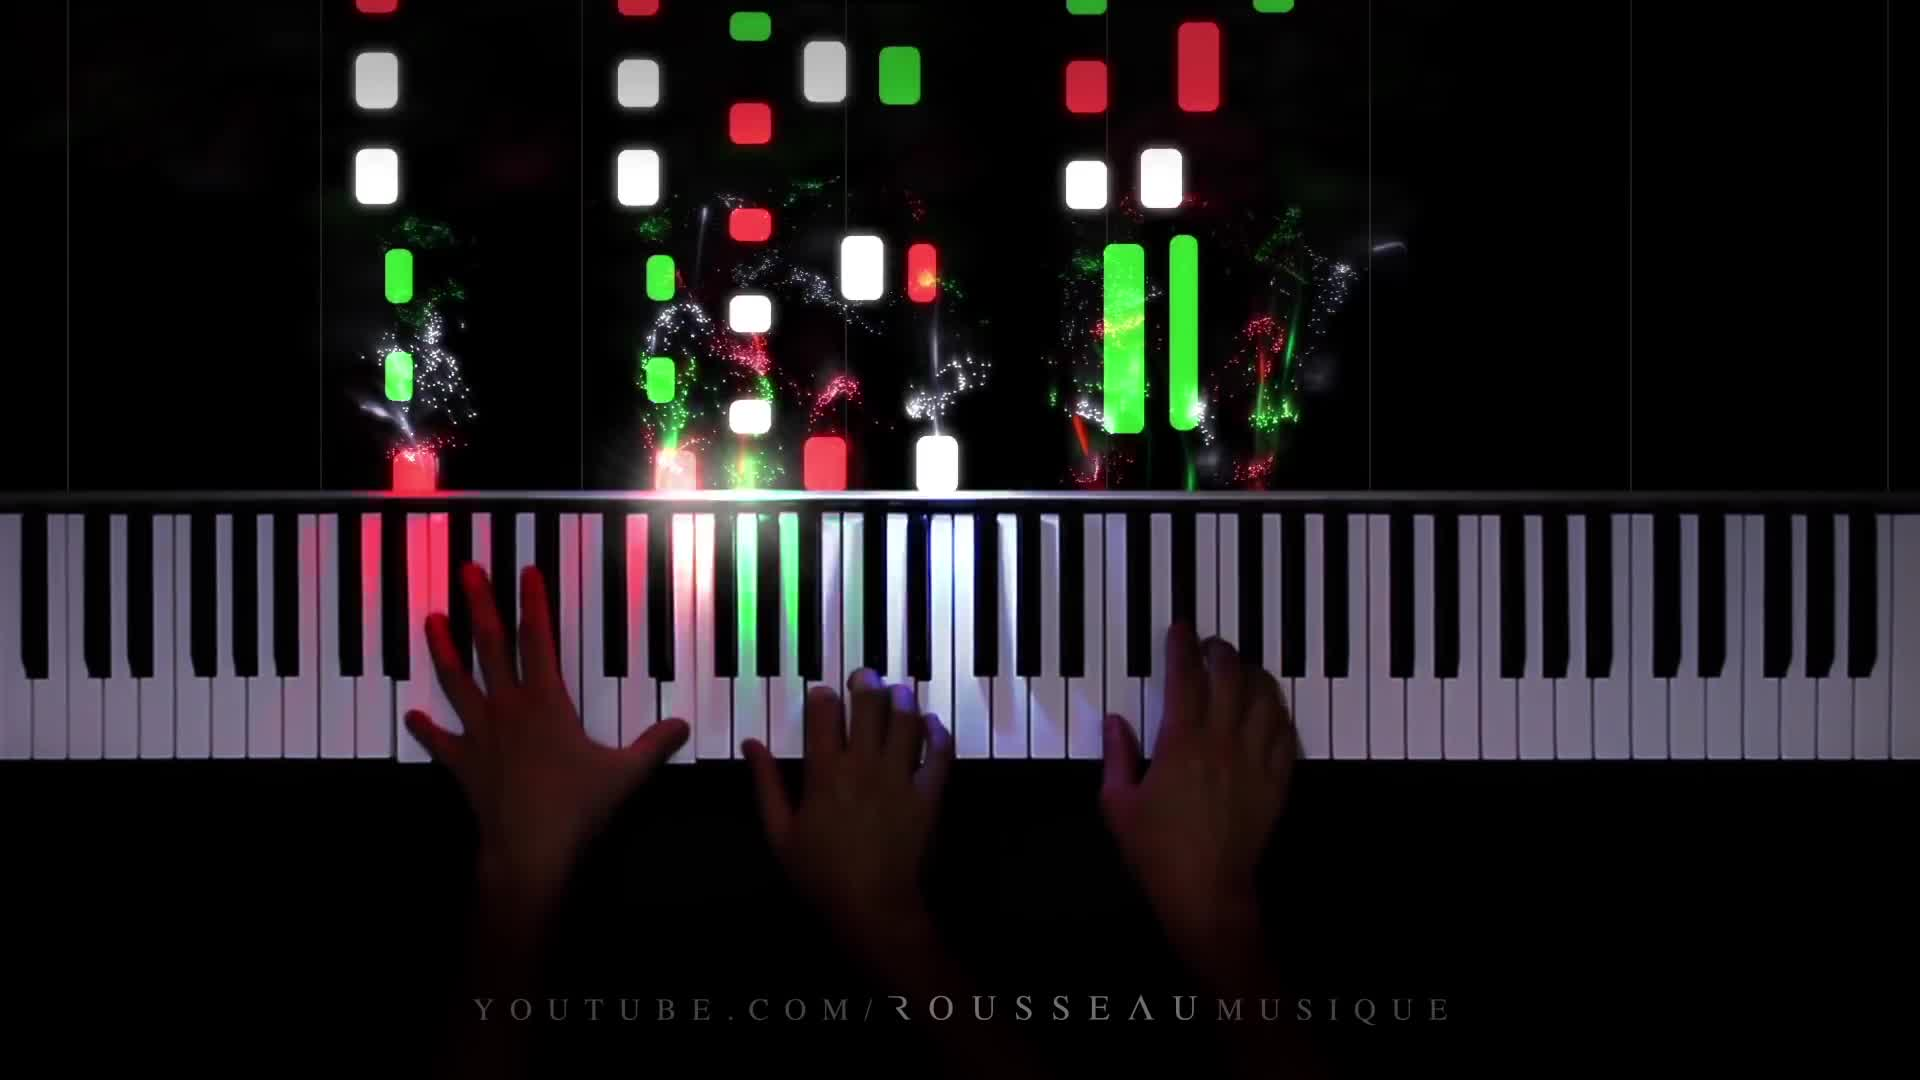left: (404, 556, 690, 860)
right: (1101, 622, 1303, 923), (742, 666, 949, 913)
